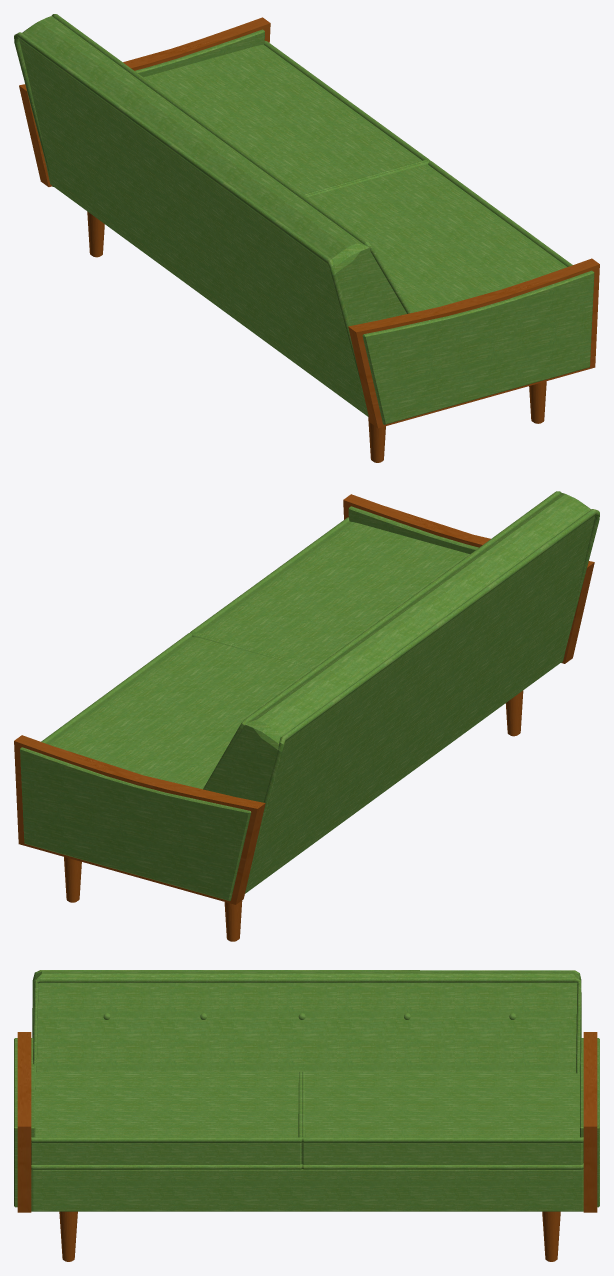
Rendered from Tloveseat1git.glb.
The picture shows the model from 3 angles, top to bottom: view 1: azimuth 30°, elevation 25°; view 2: azimuth 150°, elevation 25°; view 3: azimuth 270°, elevation 25°; orthographic projection. The views are drawn at different scales.
Visible parts, largest first — view 1: Cylinder.005, Cylinder.001; view 2: Cylinder.005, Cylinder.001; view 3: Cylinder.005, Cylinder.001.
Part boxes in pixels (bbox=[...]): Cylinder.005: bbox=[14, 14, 594, 424]; Cylinder.001: bbox=[19, 17, 599, 462]; Cylinder.005: bbox=[20, 491, 599, 900]; Cylinder.001: bbox=[14, 494, 594, 941]; Cylinder.005: bbox=[14, 970, 599, 1211]; Cylinder.001: bbox=[17, 1032, 597, 1261].
Size of the model in its own units: 1.01 by 0.8843 by 2.3.
2 materials, 2 textured.
